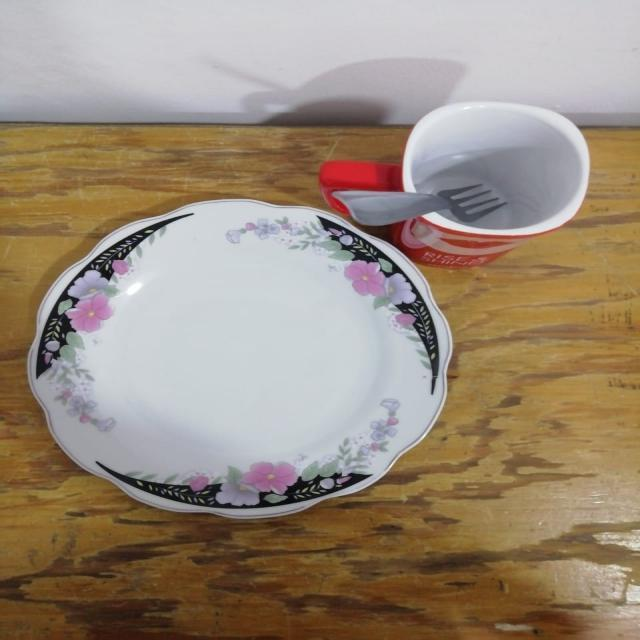ceramic plate: (38, 202, 460, 572)
